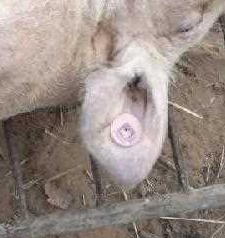text: (101, 103, 150, 155)
